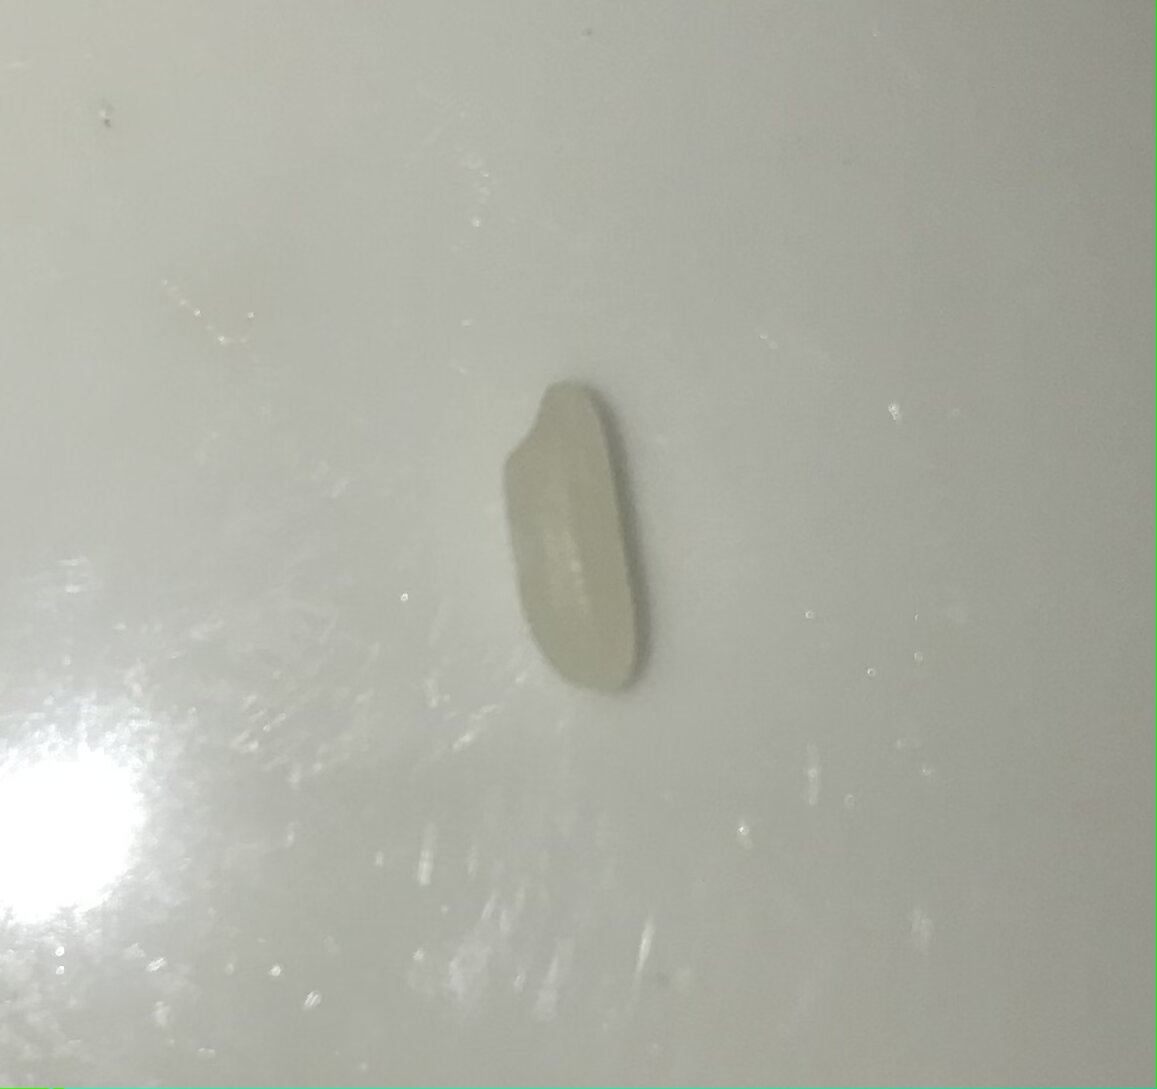Gao Lai Sua: (492, 375, 655, 694)
